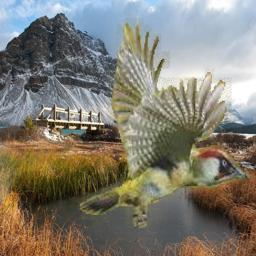Woodpecker: (78, 18, 251, 228)
